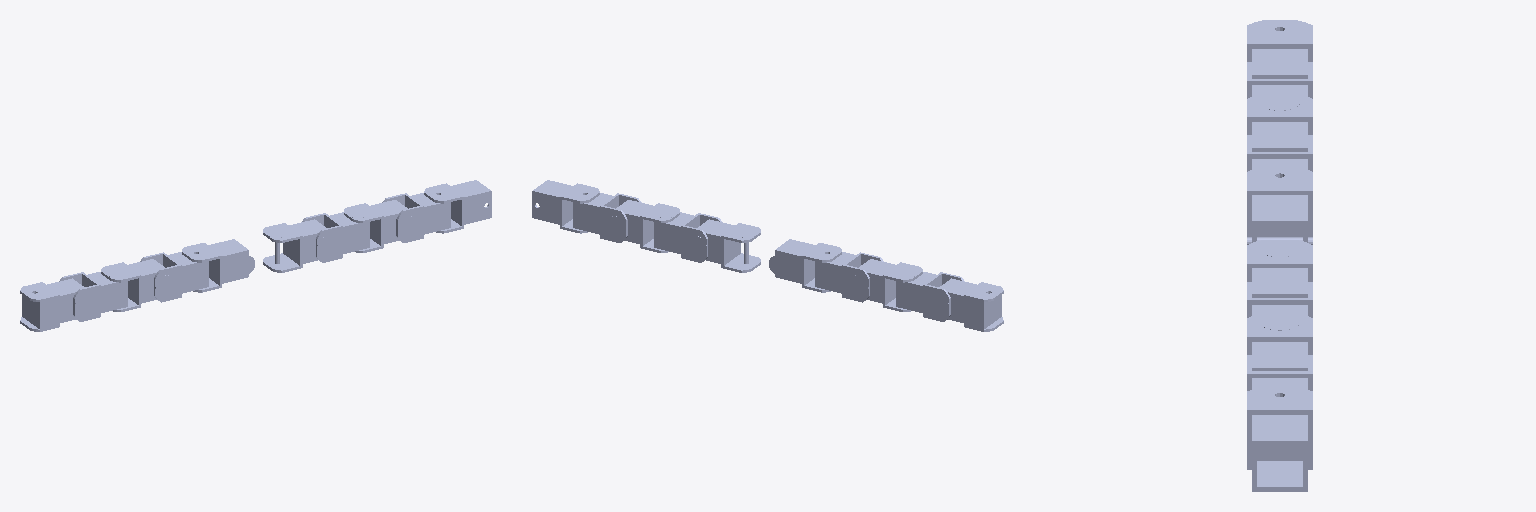
--- What the picture shows (computed from the rendered views, not written in the file) ---
Views: 3 orthographic renders of the robot side by side, from view 1: azimuth 30°, elevation 25°; view 2: azimuth 150°, elevation 25°; view 3: azimuth 270°, elevation 25°.
Robot: snakebot — 22 links, 21 joints (10 revolute, 11 fixed); root link dummy_link; default pose: all joints at 0.
Links seen in each view (by area): view 1: base_link, link_ten, link_six, link_four, link_three, link_one, link_nine, link_seven, link_eight, link_two; view 2: base_link, link_ten, link_six, link_four, link_three, link_one, link_nine, link_seven, link_eight, link_two; view 3: link_ten, link_four, base_link, link_two, link_six, link_eight, link_nine, link_three, link_seven, link_one, rod_nine, rod_seven (+1 smaller).
Boxes of the visible links, x1,y1,x2,y2 form: base_link: (20, 278, 84, 331); link_ten: (424, 180, 491, 233); link_six: (263, 219, 326, 272); link_four: (182, 239, 248, 292); link_three: (140, 252, 208, 302); link_one: (59, 272, 127, 321); link_nine: (382, 193, 450, 242); link_seven: (302, 212, 369, 262); link_eight: (344, 200, 407, 252); link_two: (101, 259, 164, 311); base_link: (939, 278, 1003, 331); link_ten: (532, 180, 599, 233); link_six: (697, 219, 760, 272); link_four: (775, 239, 841, 292); link_three: (815, 252, 883, 302); link_one: (896, 272, 964, 321); link_nine: (573, 193, 641, 242); link_seven: (654, 212, 721, 262); link_eight: (616, 200, 679, 252); link_two: (859, 259, 922, 311); link_ten: (1247, 387, 1312, 491); link_four: (1247, 167, 1312, 242); base_link: (1247, 20, 1312, 78); link_two: (1247, 94, 1312, 151); link_six: (1247, 240, 1312, 297); link_eight: (1247, 313, 1312, 370); link_nine: (1247, 355, 1312, 390); link_three: (1247, 135, 1312, 171); link_seven: (1247, 282, 1312, 317); link_one: (1247, 62, 1312, 98); rod_nine: (1260, 313, 1299, 330); rod_seven: (1260, 240, 1299, 256).
Size in the robot's own frame: 2.45 by 0.1661 by 0.1661 metres.
18 mesh visuals loaded from 21 distinct referenced files (18 binary STL); not drawn: 3 (reference not matched to a file when rendering).

robot.urdf — snakebot:
<?xml version="1.0" encoding="utf-8"?>
<!-- This URDF was automatically created by SolidWorks to URDF Exporter! Originally created by Stephen Brawner ([email redacted]) 
     Commit Version: 1.6.0-1-g15f4949  Build Version: 1.6.7594.29634
     For more information, please see http://wiki.ros.org/sw_urdf_exporter -->
<robot
  name="snakebot">
  <link
    name="dummy_link">
  </link>
  <joint
    name="dummy_joint"
    type="fixed">
    <parent
      link="dummy_link"/>
    <child
      link="base_link"/>
  </joint>
  <link
    name="base_link">
    <inertial>
      <origin
        xyz="0.0639216007821218 2.50000000135633E-07 0.03175025"
        rpy="0 0 0" />
      <mass
        value="0.31974819923969" />
      <inertia
        ixx="0.40228007941326755"
        ixy="-1.08152012126274E-18"
        ixz="-4.58293797599228E-19"
        iyy="0.40356844801998132"
        iyz="-1.16439475658242E-18"
        izz="0.20359667836625255" />
    </inertial>
    <visual>
      <origin
        xyz="0 0 0"
        rpy="0 0 0" />
      <geometry>
        <mesh
          filename="package://snakebot/meshes/base_link.STL" />
      </geometry>
      <material
        name="">
        <color
          rgba="0.792156862745098 0.819607843137255 0.933333333333333 1" />
      </material>
    </visual>
    <collision>
      <origin
        xyz="0 0 0"
        rpy="0 0 0" />
      <geometry>
        <mesh
          filename="package://snakebot/meshes/base_link.STL" />
      </geometry>
    </collision>
  </link>
  <link
    name="rod_one">
    <inertial>
      <origin
        xyz="-2.77555756156289E-17 0.03175025 -2.49999999902433E-07"
        rpy="0 0 0" />
      <mass
        value="0.0918944415792056" />
      <inertia
        ixx="0.000255192786793957"
        ixy="-2.25062568663077E-35"
        ixz="2.02955234186608E-38"
        iyy="1.73749647082541E-05"
        iyz="-1.45616607989176E-20"
        izz="0.000255192786793957" />
    </inertial>
    <visual>
      <origin
        xyz="0 0 0"
        rpy="0 0 0" />
      <geometry>
        <mesh
          filename="package://snakebot/meshes/rod_one.STL" />
      </geometry>
      <material
        name="">
        <color
          rgba="0.792156862745098 0.819607843137255 0.933333333333333 1" />
      </material>
    </visual>
    <collision>
      <origin
        xyz="0 0 0"
        rpy="0 0 0" />
      <geometry>
        <mesh
          filename="package://snakebot/meshes/rod_one.STL" />
      </geometry>
    </collision>
  </link>
  <joint
    name="rod_one_joint"
    type="revolute">
    <origin
      xyz="0.2159 0 0"
      rpy="3.1416 0 0" />
    <parent
      link="base_link" />
    <child
      link="rod_one" />
    <axis
      xyz="0 1 0" />
    <limit
      lower="-3.14"
      upper="3.14"
      effort="1000"
      velocity="0.1" />
  </joint>
  <link
    name="link_one">
    <inertial>
      <origin
        xyz="0.108134816869862 2.4999999991976E-07 0.03175025"
        rpy="0 0 0" />
      <mass
        value="0.372498080839688" />
      <inertia
        ixx="0.40127571298329475"
        ixy="-8.22466335437065E-19"
        ixz="1.64509583289318E-19"
        iyy="0.40265498440151005"
        iyz="9.61291128826174E-22"
        izz="0.20234553145484644" />
    </inertial>
    <visual>
      <origin
        xyz="0 0 0"
        rpy="0 0 0" />
      <geometry>
        <mesh
          filename="package://snakebot/meshes/link_one.STL" />
      </geometry>
      <material
        name="">
        <color
          rgba="0.792156862745098 0.819607843137255 0.933333333333333 1" />
      </material>
    </visual>
    <collision>
      <origin
        xyz="0 0 0"
        rpy="0 0 0" />
      <geometry>
        <mesh
          filename="package://snakebot/meshes/link_one.STL" />
      </geometry>
    </collision>
  </link>
  <joint
    name="link_one_joint"
    type="fixed">
    <origin
      xyz="0 0 0"
      rpy="-1.5708 0 0" />
    <parent
      link="rod_one" />
    <child
      link="link_one" />
    <axis
      xyz="0 0 1" />
  </joint>
  <link
    name="rod_three">
    <inertial>
      <origin
        xyz="0 2.50000000631689E-07 -2.77555756156289E-17"
        rpy="0 0 0" />
      <mass
        value="0.0918944415792056" />
      <inertia
        ixx="0.000255192786793957"
        ixy="-2.25062568663077E-35"
        ixz="2.02955234186622E-38"
        iyy="1.73749647082541E-05"
        iyz="0"
        izz="0.000255192786793957" />
    </inertial>
    <visual>
      <origin
        xyz="0 0 0"
        rpy="0 0 0" />
      <geometry>
        <mesh
          filename="package://snakebot/meshes/rod_three.STL" />
      </geometry>
      <material
        name="">
        <color
          rgba="0.792156862745098 0.819607843137255 0.933333333333333 1" />
      </material>
    </visual>
    <collision>
      <origin
        xyz="0 0 0"
        rpy="0 0 0" />
      <geometry>
        <mesh
          filename="package://snakebot/meshes/rod_three.STL" />
      </geometry>
    </collision>
  </link>
  <joint
    name="rod_three_joint"
    type="revolute">
    <origin
      xyz="0.2159 0 0.03175"
      rpy="0 0 0" />
    <parent
      link="link_one" />
    <child
      link="rod_three" />
    <axis
      xyz="0 1 0" />
    <limit
      lower="-3.14"
      upper="3.14"
      effort="1000"
      velocity="0.1" />
  </joint>
  <link
    name="link_two">
    <inertial>
      <origin
        xyz="0.108134816869861 -9.08995101411847E-16 -2.50000000946159E-07"
        rpy="0 0 0" />
      <mass
        value="0.372498080839688" />
      <inertia
        ixx="0.40127571298329475"
        ixy="-9.47852896113123E-19"
        ixz="7.11595450542596E-20"
        iyy="0.40265498440151005"
        iyz="6.64350777973334E-20"
        izz="0.20234553145484644" />
    </inertial>
    <visual>
      <origin
        xyz="0 0 0"
        rpy="0 0 0" />
      <geometry>
        <mesh
          filename="package://snakebot/meshes/link_two.STL" />
      </geometry>
      <material
        name="">
        <color
          rgba="0.792156862745098 0.819607843137255 0.933333333333333 1" />
      </material>
    </visual>
    <collision>
      <origin
        xyz="0 0 0"
        rpy="0 0 0" />
      <geometry>
        <mesh
          filename="package://snakebot/meshes/link_two.STL" />
      </geometry>
    </collision>
  </link>
  <joint
    name="link_two_joint"
    type="fixed">
    <origin
      xyz="0 0 0"
      rpy="1.5708 0 0" />
    <parent
      link="rod_three" />
    <child
      link="link_two" />
    <axis
      xyz="0 0 1" />
  </joint>
  <link
    name="rod_four">
    <inertial>
      <origin
        xyz="-1.05486370749475E-08 -4.02455846426619E-16 -2.49777354330988E-07"
        rpy="0 0 0" />
      <mass
        value="0.0918944415792057" />
      <inertia
        ixx="0.000255192786793957"
        ixy="1.34198587880627E-21"
        ixz="1.46419576338424E-34"
        iyy="1.73749647082543E-05"
        iyz="-2.41848302391192E-19"
        izz="0.000255192786793957" />
    </inertial>
    <visual>
      <origin
        xyz="0 0 0"
        rpy="0 0 0" />
      <geometry>
        <mesh
          filename="package://snakebot/meshes/rod_four.STL" />
      </geometry>
      <material
        name="">
        <color
          rgba="0.792156862745098 0.819607843137255 0.933333333333333 1" />
      </material>
    </visual>
    <collision>
      <origin
        xyz="0 0 0"
        rpy="0 0 0" />
      <geometry>
        <mesh
          filename="package://snakebot/meshes/rod_four.STL" />
      </geometry>
    </collision>
  </link>
  <joint
    name="rod_four_joint"
    type="revolute">
    <origin
      xyz="0.2159 0 0"
      rpy="0 -0.042207 0" />
    <parent
      link="link_two" />
    <child
      link="rod_four" />
    <axis
      xyz="0 1 0" />
    <limit
      lower="-3.14"
      upper="3.14"
      effort="1000"
      velocity="0.1" />
  </joint>
  <link
    name="link_three">
    <inertial>
      <origin
        xyz="0.108134816869862 2.50000000482369E-07 -2.28983498828939E-16"
        rpy="0 0 0" />
      <mass
        value="0.372498080839688" />
      <inertia
        ixx="0.40127571298329475"
        ixy="-9.45160942415921E-19"
        ixz="1.0783832072922E-19"
        iyy="0.40265498440151005"
        iyz="-4.69457161927285E-21"
        izz="0.20234553145484644" />
    </inertial>
    <visual>
      <origin
        xyz="0 0 0"
        rpy="0 0 0" />
      <geometry>
        <mesh
          filename="package://snakebot/meshes/link_three.STL" />
      </geometry>
      <material
        name="">
        <color
          rgba="0.792156862745098 0.819607843137255 0.933333333333333 1" />
      </material>
    </visual>
    <collision>
      <origin
        xyz="0 0 0"
        rpy="0 0 0" />
      <geometry>
        <mesh
          filename="package://snakebot/meshes/link_three.STL" />
      </geometry>
    </collision>
  </link>
  <joint
    name="link_three_joint"
    type="fixed">
    <origin
      xyz="0 0 0"
      rpy="-1.5708 0.042207 0" />
    <parent
      link="rod_four" />
    <child
      link="link_three" />
    <axis
      xyz="0 0 1" />
  </joint>
  <link
    name="rod_five">
    <inertial>
      <origin
        xyz="0 2.50000001943166E-07 -2.77555756156289E-17"
        rpy="0 0 0" />
      <mass
        value="0.0918944415792056" />
      <inertia
        ixx="0.000255192786793957"
        ixy="-2.25062568663077E-35"
        ixz="2.02955234186622E-38"
        iyy="1.73749647082541E-05"
        iyz="0"
        izz="0.000255192786793957" />
    </inertial>
    <visual>
      <origin
        xyz="0 0 0"
        rpy="0 0 0" />
      <geometry>
        <mesh
          filename="package://snakebot/meshes/rod_five.STL" />
      </geometry>
      <material
        name="">
        <color
          rgba="0.792156862745098 0.819607843137255 0.933333333333333 1" />
      </material>
    </visual>
    <collision>
      <origin
        xyz="0 0 0"
        rpy="0 0 0" />
      <geometry>
        <mesh
          filename="package://snakebot/meshes/rod_five.STL" />
      </geometry>
    </collision>
  </link>
  <joint
    name="rod_five_joint"
    type="revolute">
    <origin
      xyz="0.2159 0 0"
      rpy="0 0 0" />
    <parent
      link="link_three" />
    <child
      link="rod_five" />
    <axis
      xyz="0 1 0" />
    <limit
      lower="-3.14"
      upper="3.14"
      effort="1000"
      velocity="0.1" />
  </joint>
  <link
    name="link_four">
    <inertial>
      <origin
        xyz="0.108134816869862 1.94289029309402E-15 -2.50000002816091E-07"
        rpy="0 0 0" />
      <mass
        value="0.372498080839688" />
      <inertia
        ixx="0.40127571298329475"
        ixy="-3.59062712647956E-19"
        ixz="2.434596914516E-19"
        iyy="0.40265498440151005"
        iyz="2.18374199236825E-19"
        izz="0.20234553145484644" />
    </inertial>
    <visual>
      <origin
        xyz="0 0 0"
        rpy="0 0 0" />
      <geometry>
        <mesh
          filename="package://snakebot/meshes/link_four.STL" />
      </geometry>
      <material
        name="">
        <color
          rgba="0.792156862745098 0.819607843137255 0.933333333333333 1" />
      </material>
    </visual>
    <collision>
      <origin
        xyz="0 0 0"
        rpy="0 0 0" />
      <geometry>
        <mesh
          filename="package://snakebot/meshes/link_four.STL" />
      </geometry>
    </collision>
  </link>
  <joint
    name="link_four_joint"
    type="fixed">
    <origin
      xyz="0 0 0"
      rpy="1.5708 0 0" />
    <parent
      link="rod_five" />
    <child
      link="link_four" />
    <axis
      xyz="0 0 1" />
  </joint>
  <link
    name="rod_six">
    <inertial>
      <origin
        xyz="0 -3.33066907387547E-16 -2.50000002879444E-07"
        rpy="0 0 0" />
      <mass
        value="0.0918944415792057" />
      <inertia
        ixx="0.000255192786793957"
        ixy="1.24176970904253E-20"
        ixz="-1.31347269856205E-35"
        iyy="1.73749647082543E-05"
        iyz="3.80576611124826E-19"
        izz="0.000255192786793957" />
    </inertial>
    <visual>
      <origin
        xyz="0 0 0"
        rpy="0 0 0" />
      <geometry>
        <mesh
          filename="package://snakebot/meshes/rod_six.STL" />
      </geometry>
      <material
        name="">
        <color
          rgba="0.792156862745098 0.819607843137255 0.933333333333333 1" />
      </material>
    </visual>
    <collision>
      <origin
        xyz="0 0 0"
        rpy="0 0 0" />
      <geometry>
        <mesh
          filename="package://snakebot/meshes/rod_six.STL" />
      </geometry>
    </collision>
  </link>
  <joint
    name="rod_six_joint"
    type="revolute">
    <origin
      xyz="0.2159 0 0"
      rpy="0 0 0" />
    <parent
      link="link_four" />
    <child
      link="rod_six" />
    <axis
      xyz="0 1 0" />
    <limit
      lower="-3.14"
      upper="3.14"
      effort="1000"
      velocity="0.1" />
  </joint>
  <link
    name="link_five">
    <inertial>
      <origin
        xyz="0.108134816869862 2.5000000203477E-07 -0.0100000000000007"
        rpy="0 0 0" />
      <mass
        value="0.372498080839688" />
      <inertia
        ixx="0.40127571298329475"
        ixy="-2.48419963136538E-19"
        ixz="3.01292763109358E-19"
        iyy="0.40265498440151005"
        iyz="1.01199467457088E-19"
        izz="0.20234553145484644" />
    </inertial>
    <visual>
      <origin
        xyz="0 0 0"
        rpy="0 0 0" />
      <geometry>
        <mesh
          filename="package://snakebot/meshes/link_five.STL" />
      </geometry>
      <material
        name="">
        <color
          rgba="0.792156862745098 0.819607843137255 0.933333333333333 1" />
      </material>
    </visual>
    <collision>
      <origin
        xyz="0 0 0"
        rpy="0 0 0" />
      <geometry>
        <mesh
          filename="package://snakebot/meshes/link_five.STL" />
      </geometry>
    </collision>
  </link>
  <joint
    name="link_five_joint"
    type="fixed">
    <origin
      xyz="0 0.01 0"
      rpy="-1.5708 0 0" />
    <parent
      link="rod_six" />
    <child
      link="link_five" />
    <axis
      xyz="0 0 1" />
  </joint>
  <link
    name="rod_seven">
    <inertial>
      <origin
        xyz="0 2.50000001464357E-07 -2.77555756156289E-17"
        rpy="0 0 0" />
      <mass
        value="0.0918944415792056" />
      <inertia
        ixx="0.000255192786793957"
        ixy="-2.25062568663077E-35"
        ixz="2.02955234186625E-38"
        iyy="1.73749647082541E-05"
        iyz="-1.87011377448796E-36"
        izz="0.000255192786793957" />
    </inertial>
    <visual>
      <origin
        xyz="0 0 0"
        rpy="0 0 0" />
      <geometry>
        <mesh
          filename="package://snakebot/meshes/rod_seven.STL" />
      </geometry>
      <material
        name="">
        <color
          rgba="0.792156862745098 0.819607843137255 0.933333333333333 1" />
      </material>
    </visual>
    <collision>
      <origin
        xyz="0 0 0"
        rpy="0 0 0" />
      <geometry>
        <mesh
          filename="package://snakebot/meshes/rod_seven.STL" />
      </geometry>
    </collision>
  </link>
  <joint
    name="rod_seven_joint"
    type="revolute">
    <origin
      xyz="0.2159 0 -0.01"
      rpy="0 0 0" />
    <parent
      link="link_five" />
    <child
      link="rod_seven" />
    <axis
      xyz="0 1 0" />
    <limit
      lower="-3.14"
      upper="3.14"
      effort="1000"
      velocity="0.1" />
  </joint>
  <link
    name="link_six">
    <inertial>
      <origin
        xyz="0.108134816869862 -1.00613961606655E-15 -2.50000002533529E-07"
        rpy="0 0 0" />
      <mass
        value="0.372498080839689" />
      <inertia
        ixx="0.40127571298329475"
        ixy="-1.59059436051761E-17"
        ixz="-2.48166603592001E-19"
        iyy="0.40265498440151004"
        iyz="8.59944317544487E-20"
        izz="0.20234553145484644" />
    </inertial>
    <visual>
      <origin
        xyz="0 0 0"
        rpy="0 0 0" />
      <geometry>
        <mesh
          filename="package://snakebot/meshes/link_six.STL" />
      </geometry>
      <material
        name="">
        <color
          rgba="0.792156862745098 0.819607843137255 0.933333333333333 1" />
      </material>
    </visual>
    <collision>
      <origin
        xyz="0 0 0"
        rpy="0 0 0" />
      <geometry>
        <mesh
          filename="package://snakebot/meshes/link_six.STL" />
      </geometry>
    </collision>
  </link>
  <joint
    name="link_six_joint"
    type="fixed">
    <origin
      xyz="0 0 0"
      rpy="1.5708 0 0" />
    <parent
      link="rod_seven" />
    <child
      link="link_six" />
    <axis
      xyz="0 0 1" />
  </joint>
  <link
    name="rod_eight">
    <inertial>
      <origin
        xyz="-2.22044604925031E-16 -1.14491749414469E-15 -2.50000002532371E-07"
        rpy="0 0 0" />
      <mass
        value="0.0918944415792056" />
      <inertia
        ixx="0.000255192786793956"
        ixy="-4.3123656691029E-36"
        ixz="1.87029967423402E-38"
        iyy="1.7374964708254E-05"
        iyz="4.48418013055967E-19"
        izz="0.000255192786793956" />
    </inertial>
    <visual>
      <origin
        xyz="0 0 0"
        rpy="0 0 0" />
      <geometry>
        <mesh
          filename="package://snakebot/meshes/rod_eight.STL" />
      </geometry>
      <material
        name="">
        <color
          rgba="0.792156862745098 0.819607843137255 0.933333333333333 1" />
      </material>
    </visual>
    <collision>
      <origin
        xyz="0 0 0"
        rpy="0 0 0" />
      <geometry>
        <mesh
          filename="package://snakebot/meshes/rod_eight.STL" />
      </geometry>
    </collision>
  </link>
  <joint
    name="rod_eight_joint"
    type="revolute">
    <origin
      xyz="0.2159 0 0"
      rpy="0 0 0" />
    <parent
      link="link_six" />
    <child
      link="rod_eight" />
    <axis
      xyz="0 1 0" />
    <limit
      lower="-3.14"
      upper="3.14"
      effort="1000"
      velocity="0.1" />
  </joint>
  <link
    name="link_seven">
    <inertial>
      <origin
        xyz="0.108134816869862 2.50000001378728E-07 -0.010000000000001"
        rpy="0 0 0" />
      <mass
        value="0.372498080839687" />
      <inertia
        ixx="0.40127571298329474"
        ixy="-1.75754446222009E-18"
        ixz="3.76084450963196E-20"
        iyy="0.40265498440151005"
        iyz="5.41436837192336E-19"
        izz="0.20234553145484644" />
    </inertial>
    <visual>
      <origin
        xyz="0 0 0"
        rpy="0 0 0" />
      <geometry>
        <mesh
          filename="package://snakebot/meshes/link_seven.STL" />
      </geometry>
      <material
        name="">
        <color
          rgba="0.792156862745098 0.819607843137255 0.933333333333333 1" />
      </material>
    </visual>
    <collision>
      <origin
        xyz="0 0 0"
        rpy="0 0 0" />
      <geometry>
        <mesh
          filename="package://snakebot/meshes/link_seven.STL" />
      </geometry>
    </collision>
  </link>
  <joint
    name="link_seven_joint"
    type="fixed">
    <origin
      xyz="0 0.01 0"
      rpy="-1.5708 0 0" />
    <parent
      link="rod_eight" />
    <child
      link="link_seven" />
    <axis
      xyz="0 0 1" />
  </joint>
  <link
    name="rod_nine">
    <inertial>
      <origin
        xyz="0 2.50000001519868E-07 -2.77555756156289E-17"
        rpy="0 0 0" />
      <mass
        value="0.0918944415792055" />
      <inertia
        ixx="0.000255192786793957"
        ixy="-2.25062568663077E-35"
        ixz="2.02955234186625E-38"
        iyy="1.73749647082541E-05"
        iyz="4.4723784443819E-36"
        izz="0.000255192786793957" />
    </inertial>
    <visual>
      <origin
        xyz="0 0 0"
        rpy="0 0 0" />
      <geometry>
        <mesh
          filename="package://snakebot/meshes/rod_nine.STL" />
      </geometry>
      <material
        name="">
        <color
          rgba="0.792156862745098 0.819607843137255 0.933333333333333 1" />
      </material>
    </visual>
    <collision>
      <origin
        xyz="0 0 0"
        rpy="0 0 0" />
      <geometry>
        <mesh
          filename="package://snakebot/meshes/rod_nine.STL" />
      </geometry>
    </collision>
  </link>
  <joint
    name="rod_nine_joint"
    type="revolute">
    <origin
      xyz="0.2159 0 -0.01"
      rpy="0 0 0" />
    <parent
      link="link_seven" />
    <child
      link="rod_nine" />
    <axis
      xyz="0 1 0" />
    <limit
      lower="-3.14"
      upper="3.14"
      effort="1000"
      velocity="0.1" />
  </joint>
  <link
    name="link_eight">
    <inertial>
      <origin
        xyz="0.108134816869862 1.36002320516582E-15 -2.50000001541354E-07"
        rpy="0 0 0" />
      <mass
        value="0.372498080839687" />
      <inertia
        ixx="0.40127571298329474"
        ixy="2.89151640615346E-17"
        ixz="1.53457755603158E-19"
        iyy="0.40265498440151005"
        iyz="7.09252310864723E-19"
        izz="0.20234553145484644" />
    </inertial>
    <visual>
      <origin
        xyz="0 0 0"
        rpy="0 0 0" />
      <geometry>
        <mesh
          filename="package://snakebot/meshes/link_eight.STL" />
      </geometry>
      <material
        name="">
        <color
          rgba="0.792156862745098 0.819607843137255 0.933333333333333 1" />
      </material>
    </visual>
    <collision>
      <origin
        xyz="0 0 0"
        rpy="0 0 0" />
      <geometry>
        <mesh
          filename="package://snakebot/meshes/link_eight.STL" />
      </geometry>
    </collision>
  </link>
  <joint
    name="link_eight_joint"
    type="fixed">
    <origin
      xyz="0 0 0"
      rpy="1.5708 0 0" />
    <parent
      link="rod_nine" />
    <child
      link="link_eight" />
    <axis
      xyz="0 0 1" />
  </joint>
  <link
    name="rod_ten">
    <inertial>
      <origin
        xyz="4.44089209850063E-16 1.4432899320127E-15 -2.5000000142519E-07"
        rpy="0 0 0" />
      <mass
        value="0.0918944415792056" />
      <inertia
        ixx="0.000255192786793957"
        ixy="-2.25062568663077E-35"
        ixz="2.02955234186611E-38"
        iyy="1.73749647082541E-05"
        iyz="-1.45616607989176E-20"
        izz="0.000255192786793957" />
    </inertial>
    <visual>
      <origin
        xyz="0 0 0"
        rpy="0 0 0" />
      <geometry>
        <mesh
          filename="package://snakebot/meshes/rod_ten.STL" />
      </geometry>
      <material
        name="">
        <color
          rgba="0.792156862745098 0.819607843137255 0.933333333333333 1" />
      </material>
    </visual>
    <collision>
      <origin
        xyz="0 0 0"
        rpy="0 0 0" />
      <geometry>
        <mesh
          filename="package://snakebot/meshes/rod_ten.STL" />
      </geometry>
    </collision>
  </link>
  <joint
    name="rod_ten_joint"
    type="revolute">
    <origin
      xyz="0.2159 0 0"
      rpy="0 0 0" />
    <parent
      link="link_eight" />
    <child
      link="rod_ten" />
    <axis
      xyz="0 1 0" />
    <limit
      lower="-3.14"
      upper="3.14"
      effort="1000"
      velocity="0.1" />
  </joint>
  <link
    name="link_nine">
    <inertial>
      <origin
        xyz="0.108134816869861 2.50000001460126E-07 1.38777878078145E-15"
        rpy="0 0 0" />
      <mass
        value="0.372498080839687" />
      <inertia
        ixx="0.40127571298329474"
        ixy="-1.74321646306959E-18"
        ixz="3.56337937219194E-21"
        iyy="0.40265498440151005"
        iyz="5.41436672825334E-19"
        izz="0.20234553145484644" />
    </inertial>
    <visual>
      <origin
        xyz="0 0 0"
        rpy="0 0 0" />
      <geometry>
        <mesh
          filename="package://snakebot/meshes/link_nine.STL" />
      </geometry>
      <material
        name="">
        <color
          rgba="0.792156862745098 0.819607843137255 0.933333333333333 1" />
      </material>
    </visual>
    <collision>
      <origin
        xyz="0 0 0"
        rpy="0 0 0" />
      <geometry>
        <mesh
          filename="package://snakebot/meshes/link_nine.STL" />
      </geometry>
    </collision>
  </link>
  <joint
    name="link_nine_joint"
    type="fixed">
    <origin
      xyz="0 0 0"
      rpy="-1.5708 0 0" />
    <parent
      link="rod_ten" />
    <child
      link="link_nine" />
    <axis
      xyz="0 0 1" />
  </joint>
  <link
    name="rod_eleven">
    <inertial>
      <origin
        xyz="4.44089209850063E-16 2.50000001408845E-07 -1.38777878078145E-17"
        rpy="0 0 0" />
      <mass
        value="0.0918944415792056" />
      <inertia
        ixx="0.000255192786793957"
        ixy="-2.25062568663077E-35"
        ixz="2.02955234186625E-38"
        iyy="1.73749647082541E-05"
        iyz="0"
        izz="0.000255192786793957" />
    </inertial>
    <visual>
      <origin
        xyz="0 0 0"
        rpy="0 0 0" />
      <geometry>
        <mesh
          filename="package://snakebot/meshes/rod_eleven.STL" />
      </geometry>
      <material
        name="">
        <color
          rgba="0.792156862745098 0.819607843137255 0.933333333333333 1" />
      </material>
    </visual>
    <collision>
      <origin
        xyz="0 0 0"
        rpy="0 0 0" />
      <geometry>
        <mesh
          filename="package://snakebot/meshes/rod_eleven.STL" />
      </geometry>
    </collision>
  </link>
  <joint
    name="rod_eleven_joint"
    type="revolute">
    <origin
      xyz="0.2159 0 0"
      rpy="0 0 0" />
    <parent
      link="link_nine" />
    <child
      link="rod_eleven" />
    <axis
      xyz="0 1 0" />
    <limit
      lower="-3.14"
      upper="3.14"
      effort="1000"
      velocity="0.1" />
  </joint>
  <link
    name="link_ten">
    <inertial>
      <origin
        xyz="0.108134816869861 2.77555756156289E-17 -2.50000001320092E-07"
        rpy="0 0 0" />
      <mass
        value="0.372498080839687" />
      <inertia
        ixx="0.40127571298329474"
        ixy="2.88455757760997E-17"
        ixz="1.08485666298947E-19"
        iyy="0.40265498440151005"
        iyz="7.09252192824713E-19"
        izz="0.20234553145484644" />
    </inertial>
    <visual>
      <origin
        xyz="0 0 0"
        rpy="0 0 0" />
      <geometry>
        <mesh
          filename="package://snakebot/meshes/link_ten.STL" />
      </geometry>
      <material
        name="">
        <color
          rgba="0.792156862745098 0.819607843137255 0.933333333333333 1" />
      </material>
    </visual>
    <collision>
      <origin
        xyz="0 0 0"
        rpy="0 0 0" />
      <geometry>
        <mesh
          filename="package://snakebot/meshes/link_ten.STL" />
      </geometry>
    </collision>
  </link>
  <joint
    name="link_ten_joint"
    type="fixed">
    <origin
      xyz="0 0 0"
      rpy="1.5708 0 0" />
    <parent
      link="rod_eleven" />
    <child
      link="link_ten" />
    <axis
      xyz="0 0 1" />
  </joint>
</robot>
